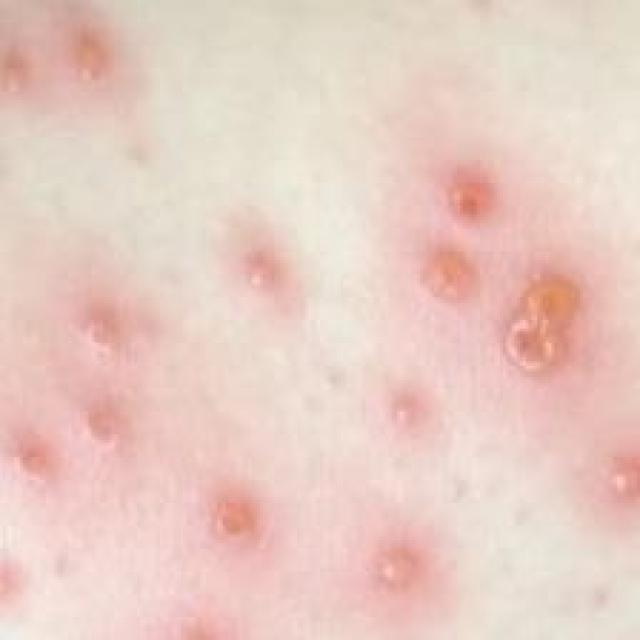others: (18, 0, 608, 640)
